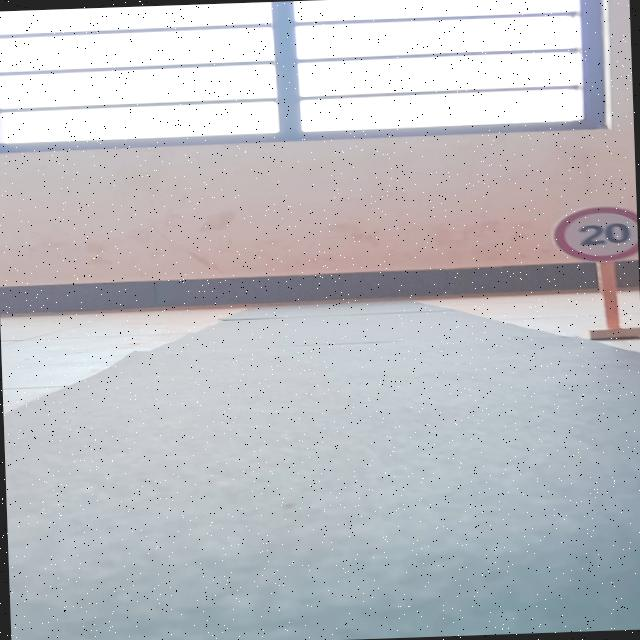Speed20: (546, 200, 638, 268)
